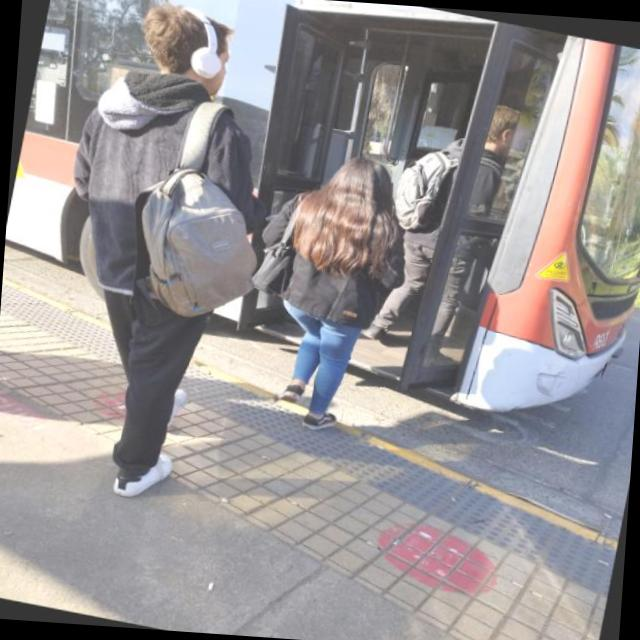person: (0, 0, 333, 522), (213, 121, 450, 452), (348, 49, 558, 400)
